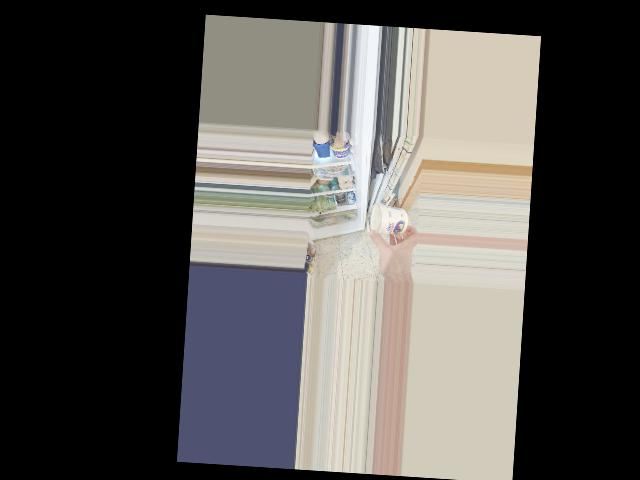cotage: (371, 205, 406, 238)
